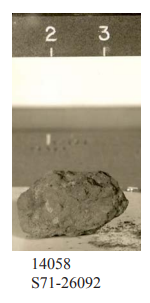Breccia: (20, 160, 121, 224)
